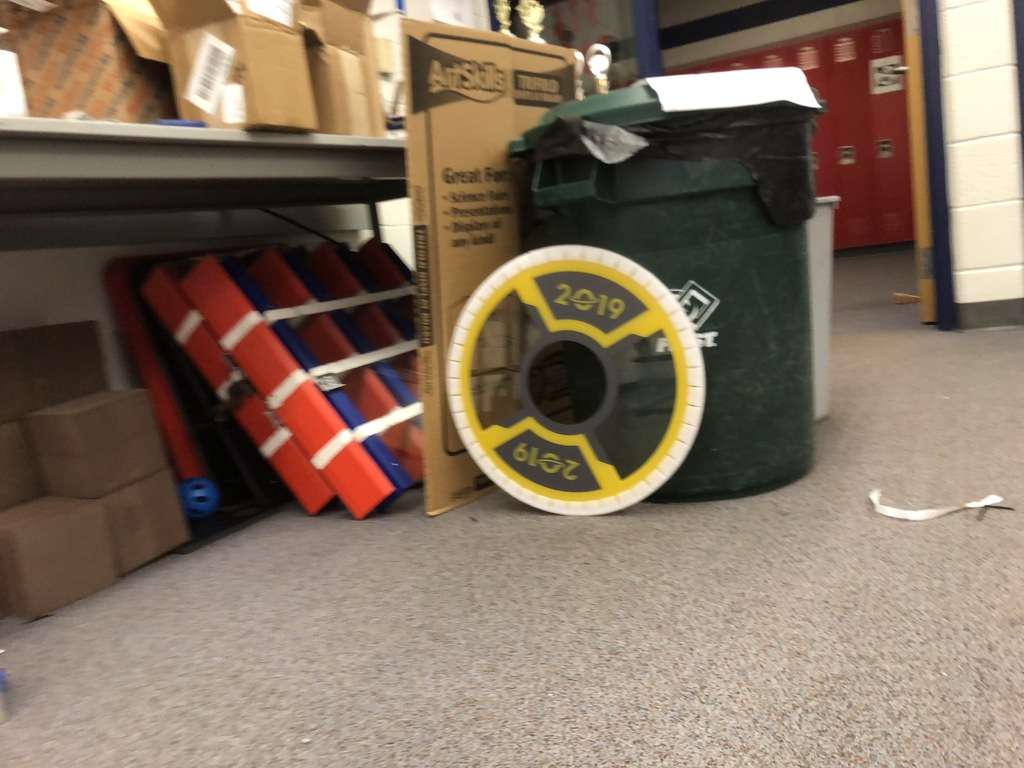hatch_panel: (440, 234, 718, 532)
